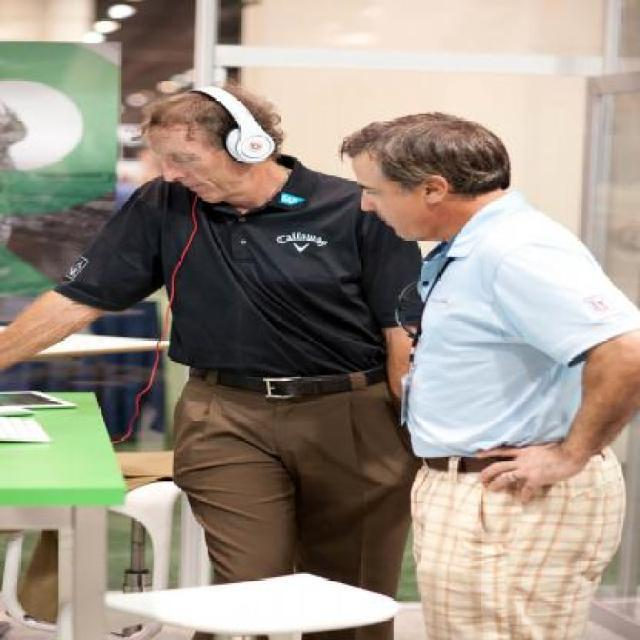earphone: (193, 62, 282, 172)
